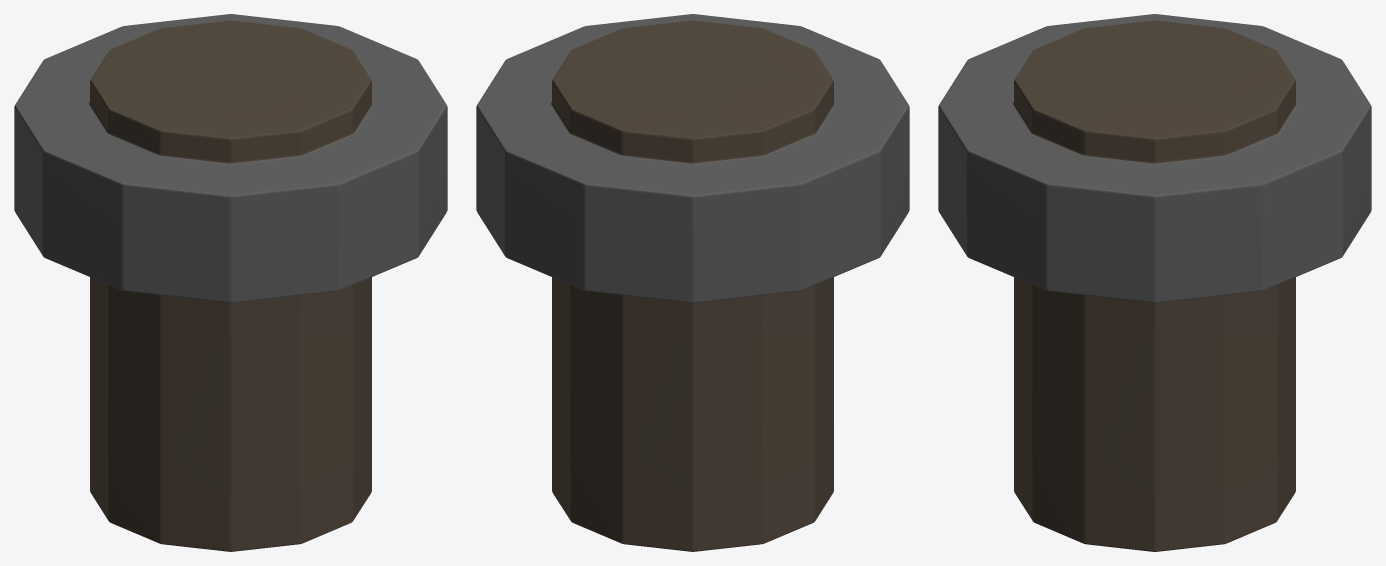
Rendered from RotatingBladesPole.fbx.
The picture shows the model from 3 angles, left to right: view 1: azimuth 30°, elevation 25°; view 2: azimuth 150°, elevation 25°; view 3: azimuth 270°, elevation 25°; orthographic projection.
Parts seen in each view (by area): view 1: RotatingBladesPole; view 2: RotatingBladesPole; view 3: RotatingBladesPole.
Boxes of the visible parts, x1=… form: RotatingBladesPole: x1=14, y1=14, x2=447, y2=551; RotatingBladesPole: x1=476, y1=14, x2=909, y2=551; RotatingBladesPole: x1=938, y1=14, x2=1371, y2=551.
Size of the model in its own units: 0.8414 by 0.8414 by 0.8881.
